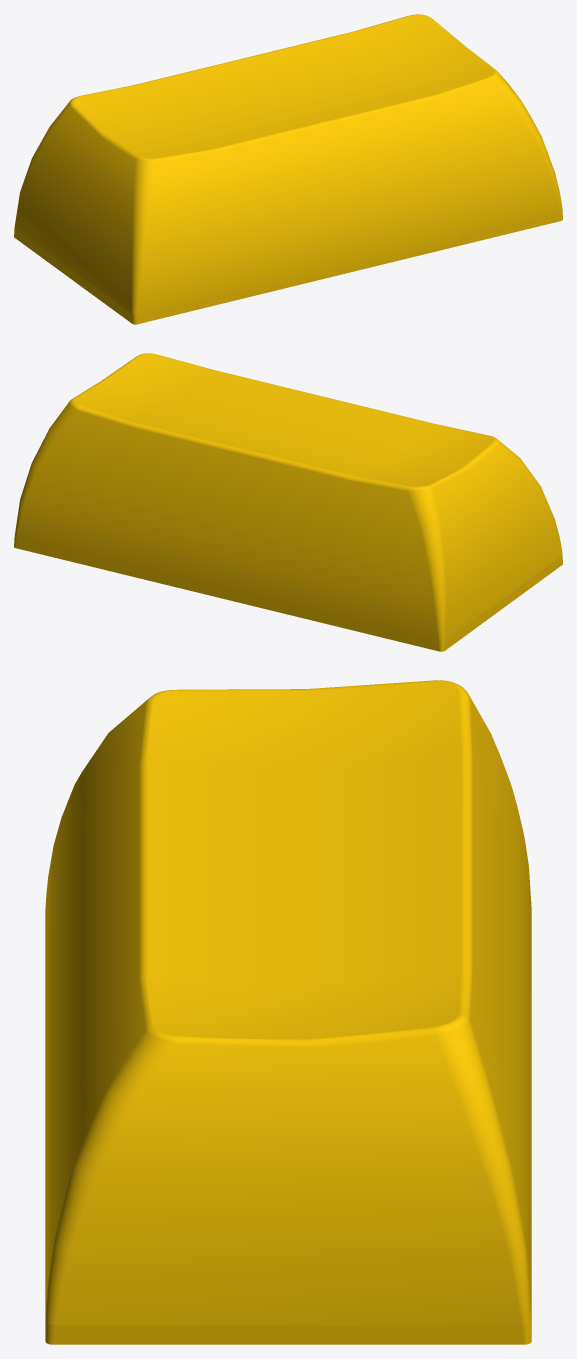
Rendered from KAT_2u_r1.glb.
3 views of the same model, one above another, from view 1: azimuth 30°, elevation 25°; view 2: azimuth 150°, elevation 25°; view 3: azimuth 270°, elevation 25° (orthographic). The views are drawn at different scales.
Visible parts, largest first — view 1: Object.055; view 2: Object.055; view 3: Object.055.
Boxes of the visible parts, bbox=[...] form: Object.055: bbox=[14, 14, 562, 324]; Object.055: bbox=[14, 353, 562, 651]; Object.055: bbox=[45, 680, 531, 1344].
Bounding box in the file's own units: 37.2 × 11.65 × 18.21.
